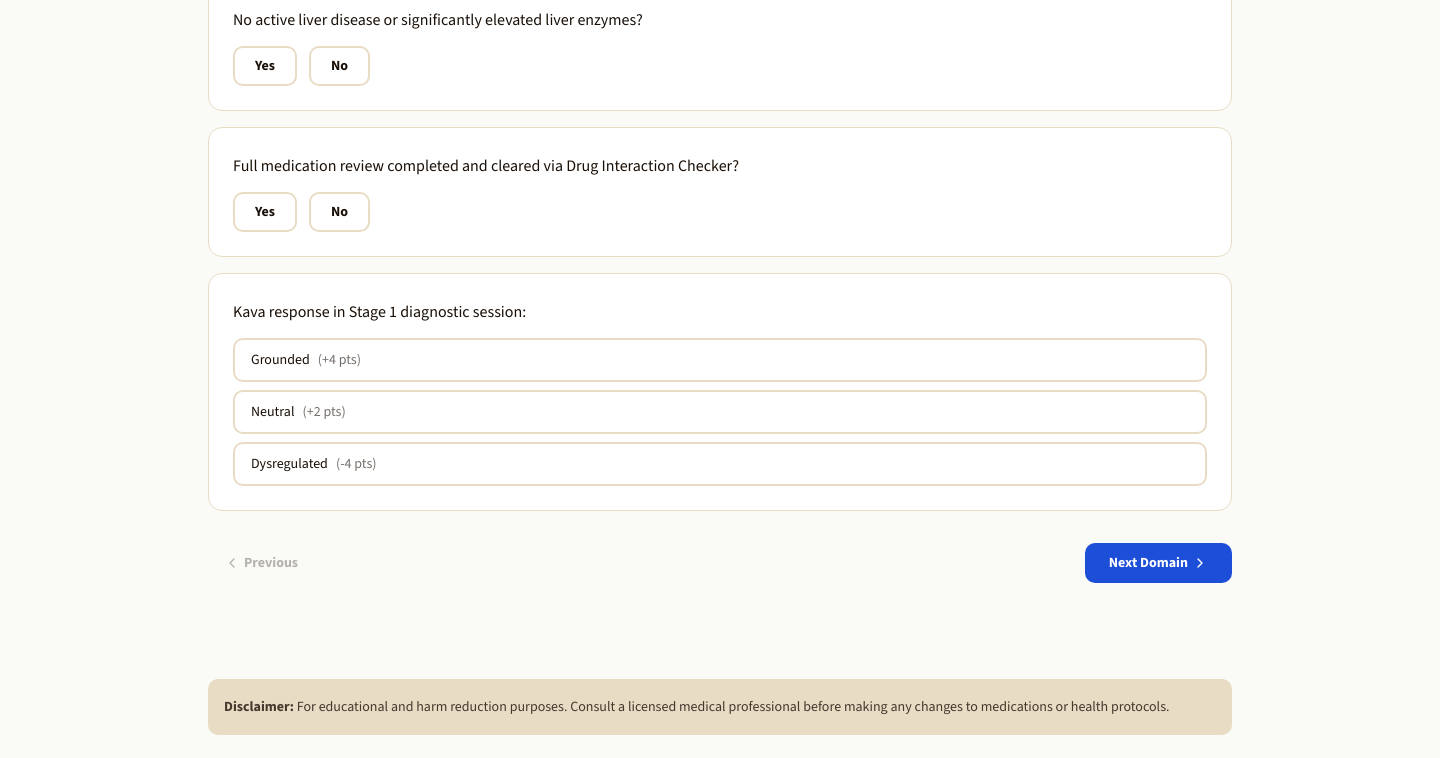
Kava PRI AssessmentQuiz › Next, Previous and the domain tabs move between domains
(page scrolled)
Click the button "Next Domain".
click(1158, 563)  # box [1085,543,1232,583]
(page scrolled)
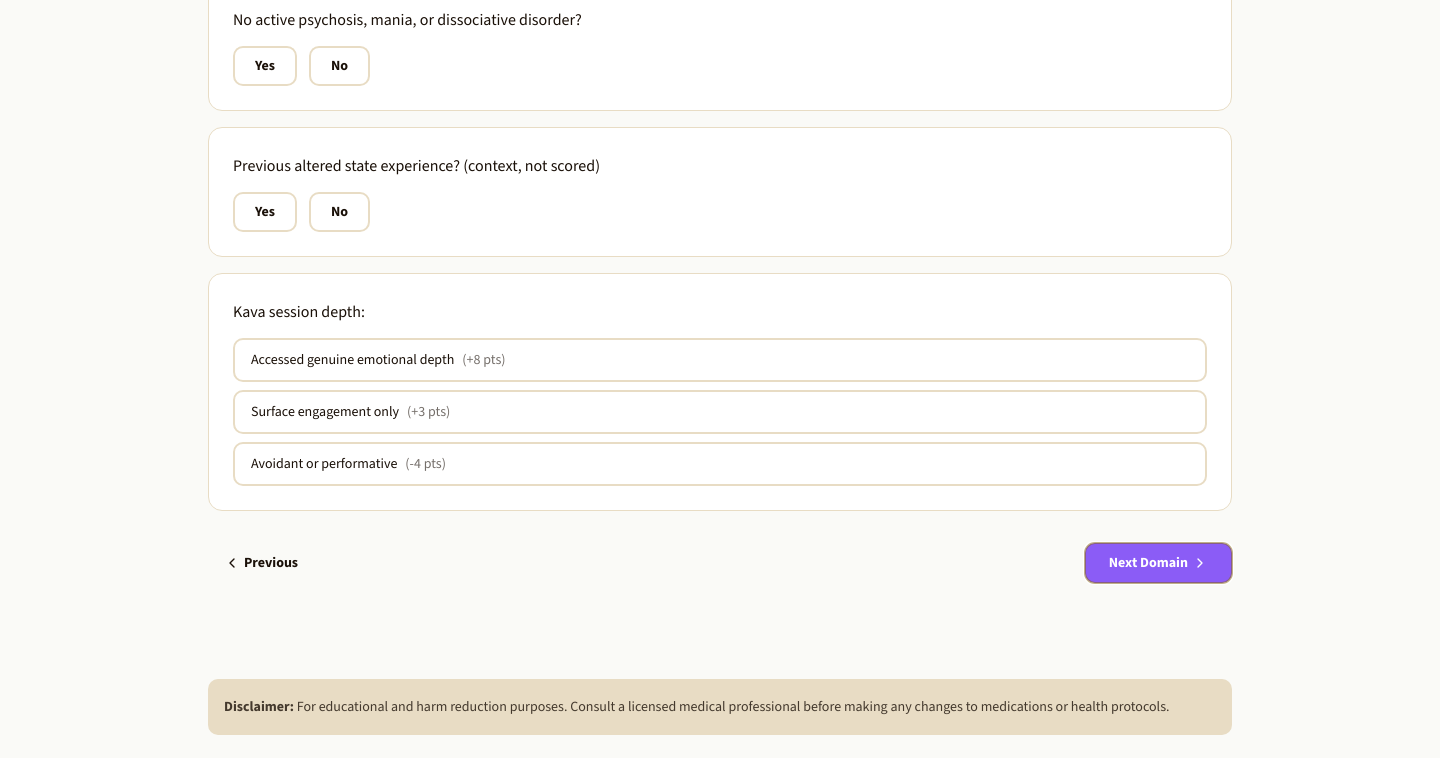
Click the button "Previous".
click(261, 563)  # box [208,545,314,581]
(page scrolled)
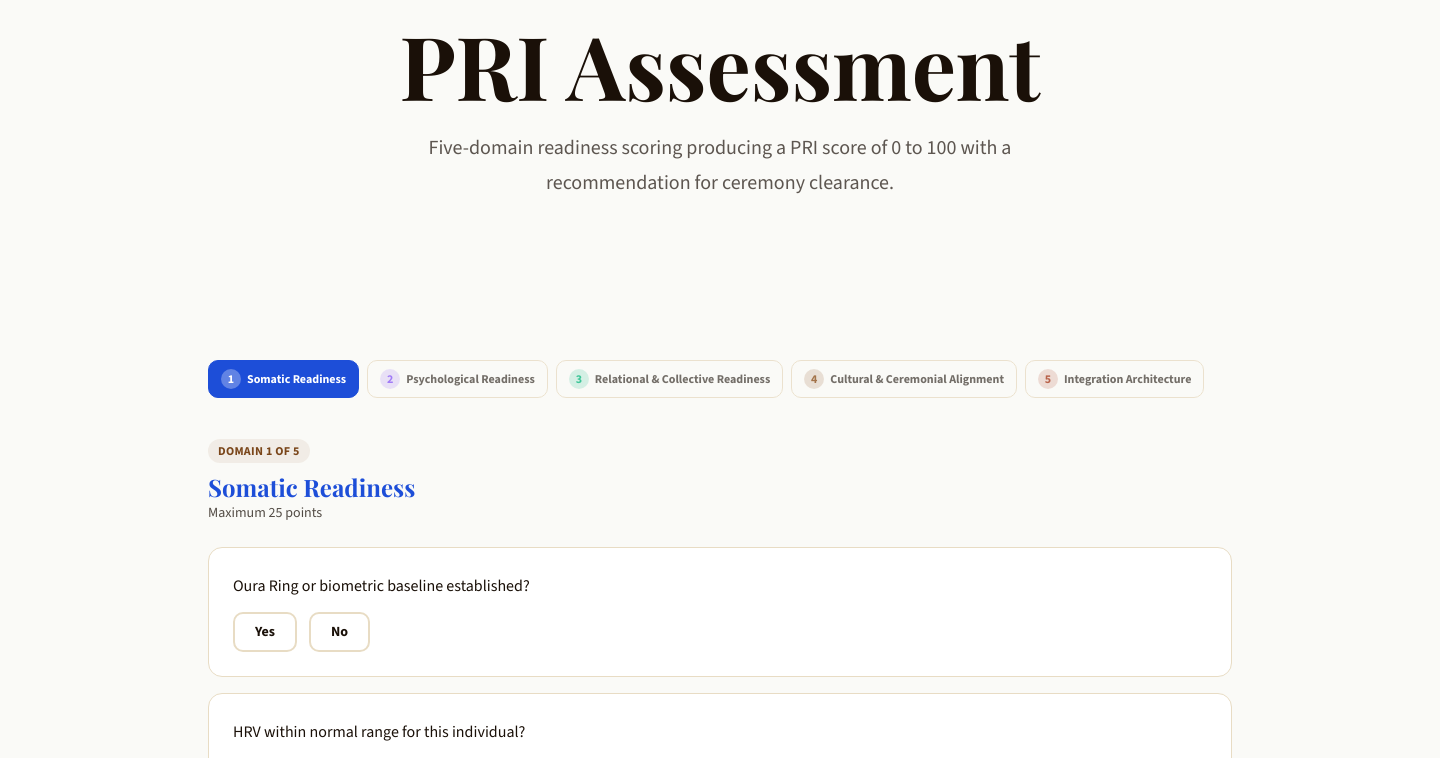
Result: the heading "Somatic Readiness" is shown at [208,471,415,503]
Click the button "5 Integration Architecture".
click(1115, 379)  # box [1025,360,1204,398]
(page scrolled)
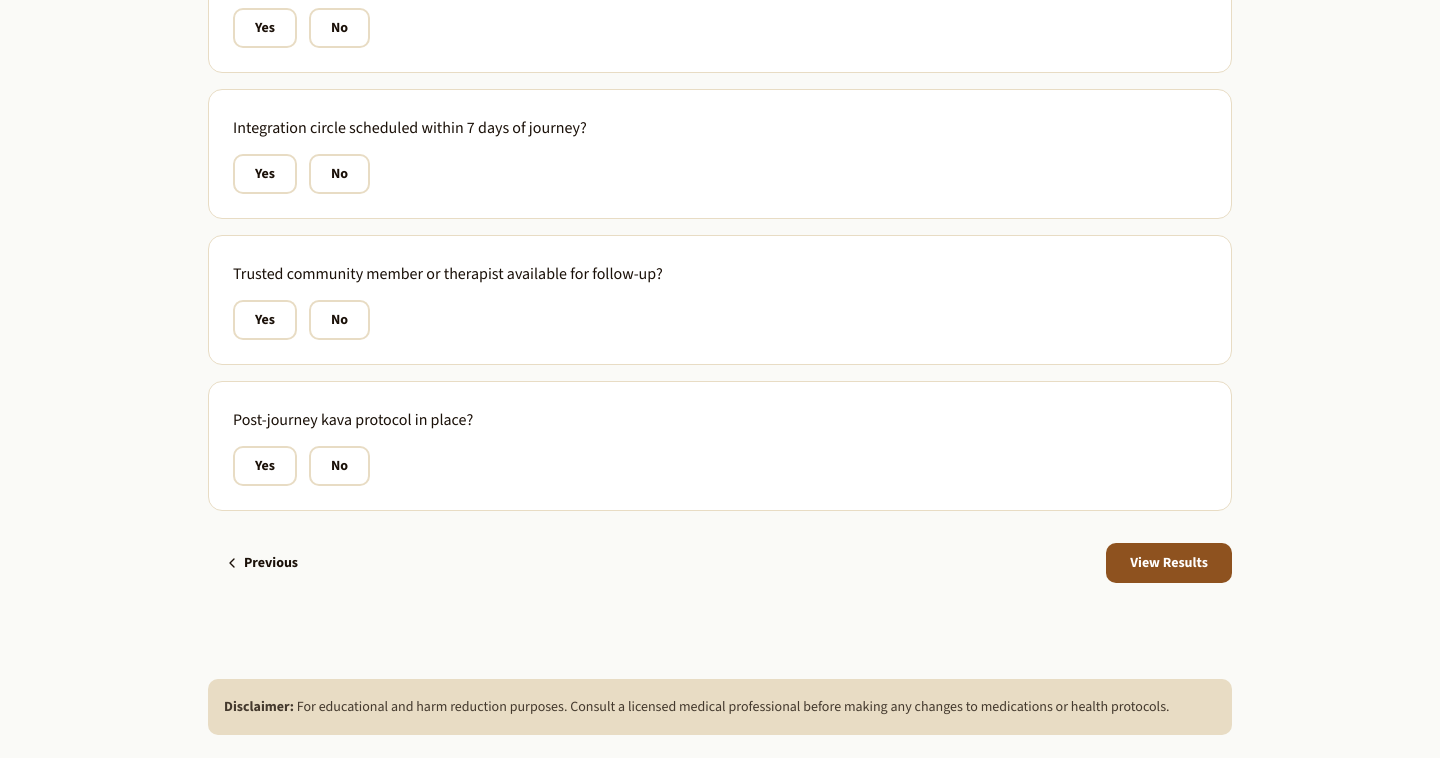
Result: the button "View Results" is shown at [1106,543,1232,583]
